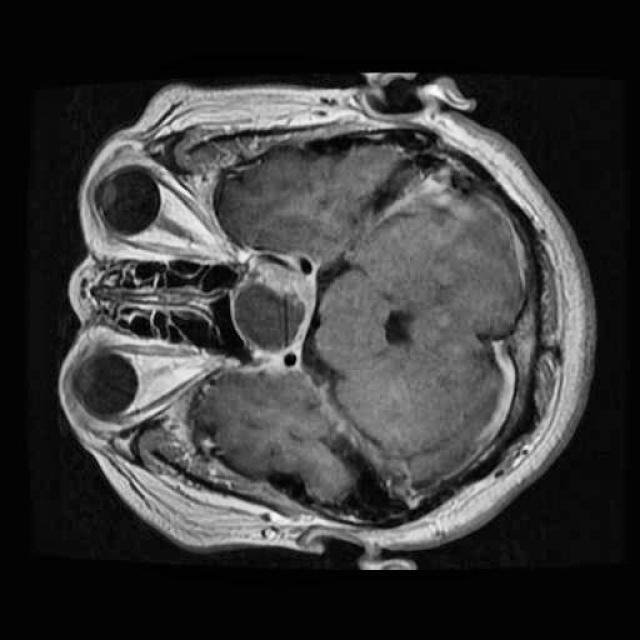Tumor: (220, 238, 324, 369)
